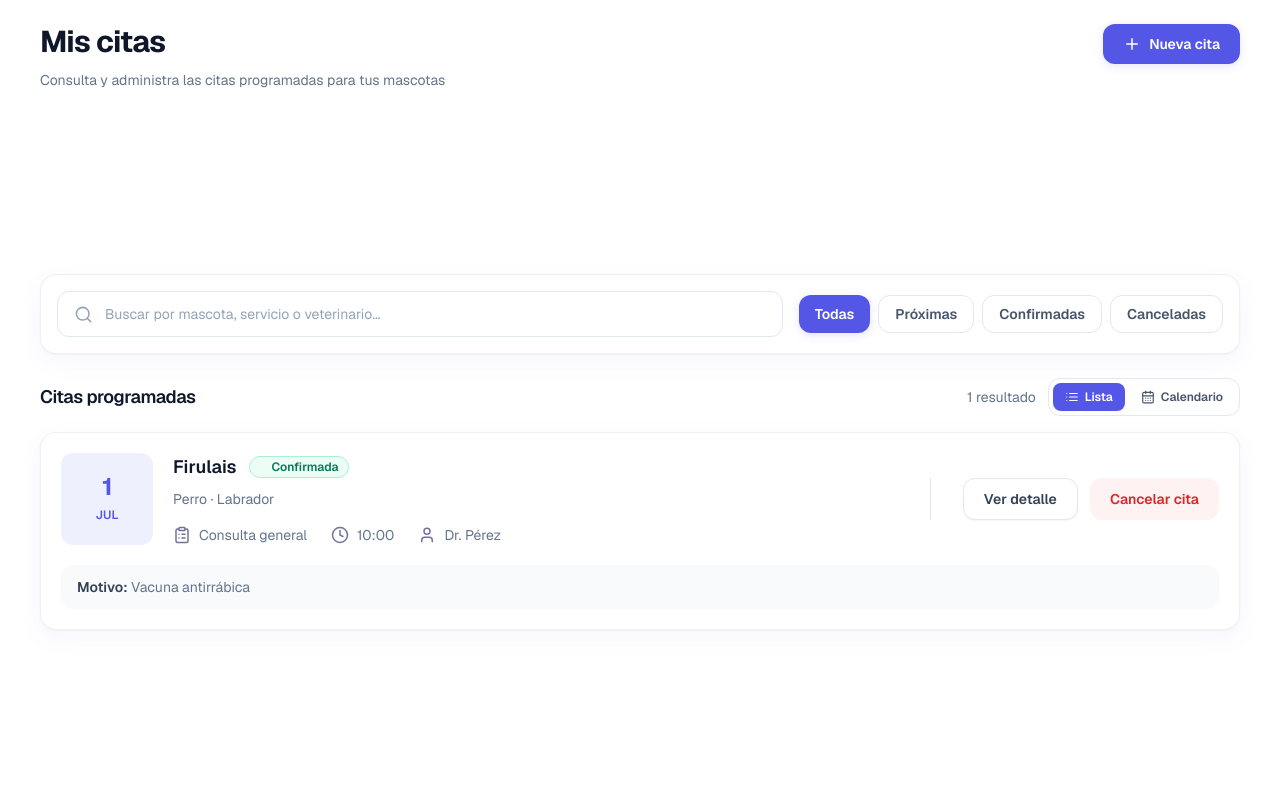
Scenario: AgendarPage — cancelar cita › abre el modal de detalle con la información de la cita
Expected: the heading "Firulais" is shown, [173,453,236,481]
Step 1. Click the button "Ver detalle" → click(1020, 499), box [963,478,1078,520]
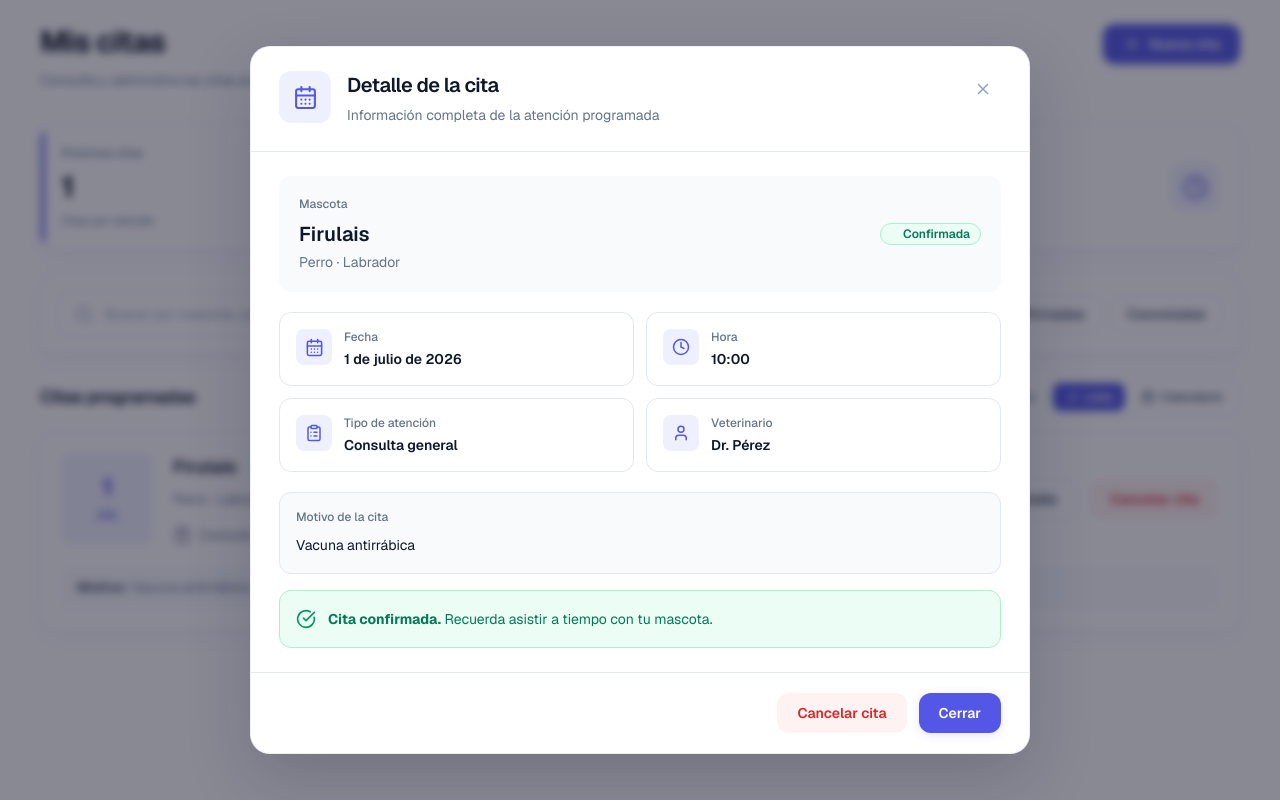
Result: the dialog is shown at [250,46,1030,754]
Result: the text "Vacuna antirrábica" is shown at [296,536,415,554]
